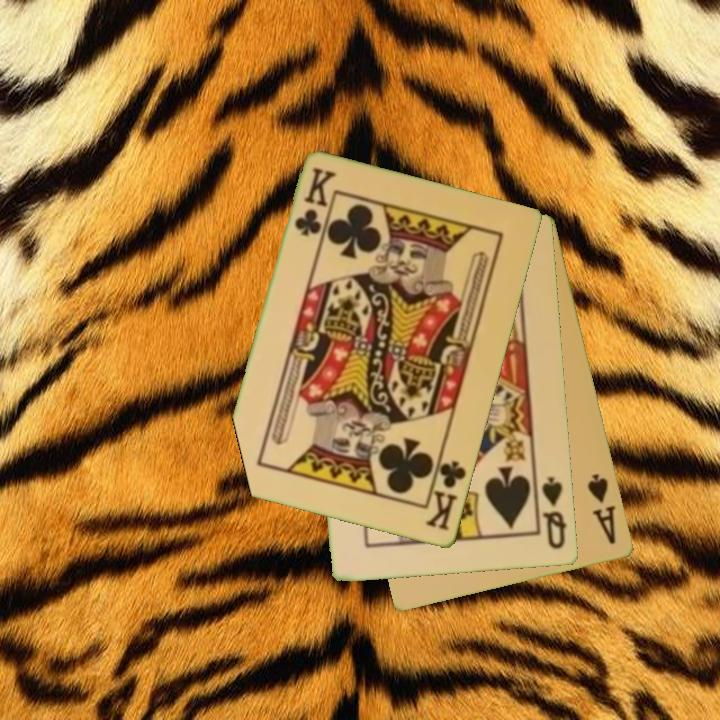As: (584, 470, 619, 548)
Kc: (422, 450, 470, 535), (291, 164, 337, 240)
Qs: (538, 474, 570, 553)
